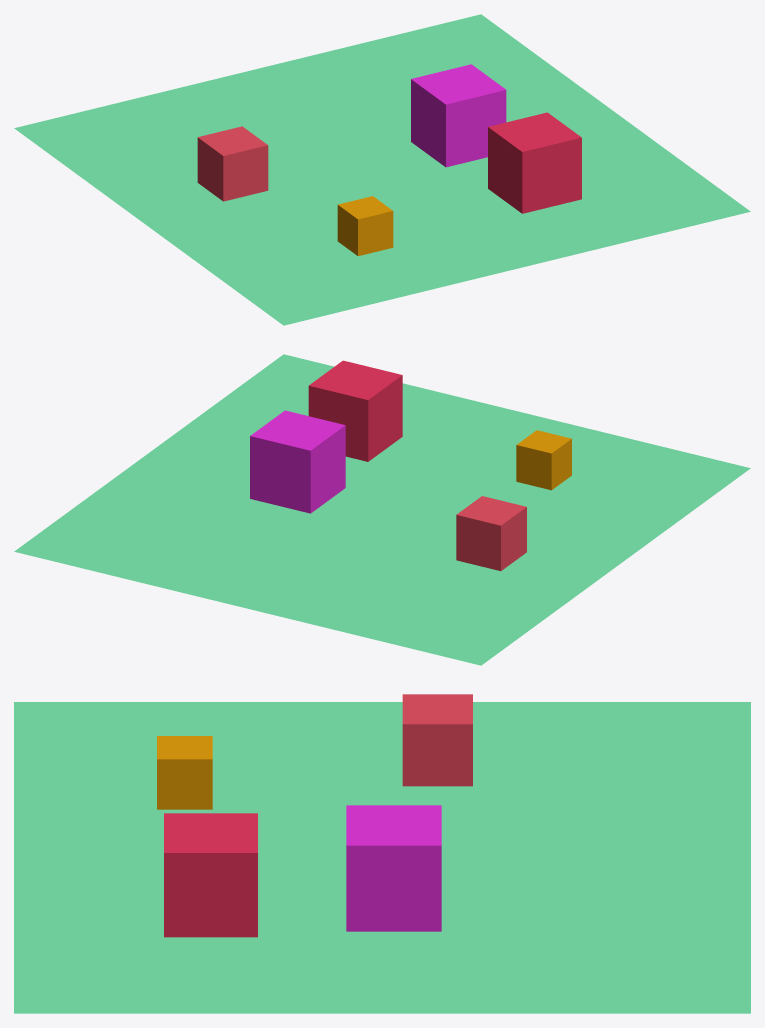
The model's file is school-D94osOe5.glb.
The picture shows the model from 3 angles, top to bottom: view 1: azimuth 30°, elevation 25°; view 2: azimuth 150°, elevation 25°; view 3: azimuth 270°, elevation 25°; orthographic projection. The views are drawn at different scales.
Visible parts, largest first — view 1: Ground_Floor, building2, building3, building4, building1; view 2: Ground_Floor, building3, building2, building4, building1; view 3: Ground_Floor, building3, building2, building4, building1.
Part boxes in pixels (x1=…): Ground_Floor: x1=14, y1=14, x2=750, y2=325; building2: x1=488, y1=112, x2=581, y2=213; building3: x1=411, y1=64, x2=506, y2=167; building4: x1=197, y1=126, x2=268, y2=201; building1: x1=337, y1=196, x2=393, y2=256; Ground_Floor: x1=14, y1=354, x2=750, y2=665; building3: x1=250, y1=410, x2=345, y2=513; building2: x1=308, y1=360, x2=402, y2=461; building4: x1=456, y1=496, x2=526, y2=570; building1: x1=516, y1=430, x2=571, y2=490; Ground_Floor: x1=14, y1=702, x2=750, y2=1013; building3: x1=346, y1=805, x2=441, y2=931; building2: x1=164, y1=813, x2=257, y2=937; building4: x1=402, y1=694, x2=472, y2=786; building1: x1=157, y1=736, x2=212, y2=809.
Bounding box in the file's own units: 19.75 × 2.59 × 19.75.
